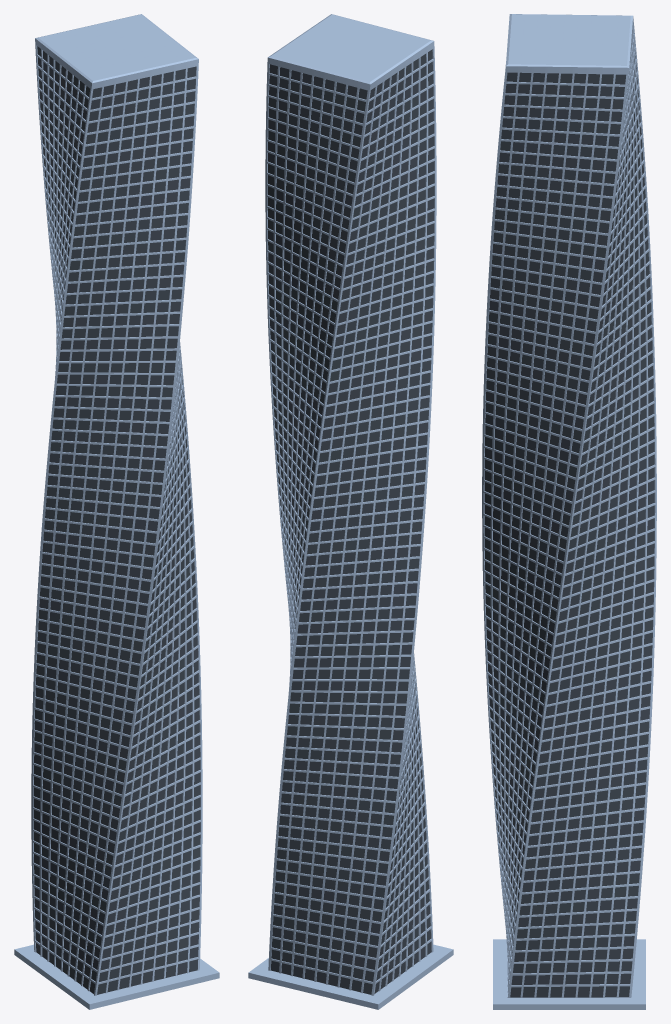
The model's file is spiral.glb.
The picture shows the model from 3 angles, left to right: view 1: azimuth 30°, elevation 25°; view 2: azimuth 150°, elevation 25°; view 3: azimuth 270°, elevation 25°; orthographic projection. The views are drawn at different scales.
Parts seen in each view (by area): view 1: Skyscraper3_Glass_0, Skyscraper3_Wall_0, Skyscraper3_Wall_0.001; view 2: Skyscraper3_Glass_0, Skyscraper3_Wall_0, Skyscraper3_Wall_0.001; view 3: Skyscraper3_Glass_0, Skyscraper3_Wall_0, Skyscraper3_Wall_0.001.
Boxes of the visible parts, left/top/right/bottom form: Skyscraper3_Glass_0: left=33, top=46, right=200, bottom=994; Skyscraper3_Wall_0: left=14, top=14, right=219, bottom=1009; Skyscraper3_Wall_0.001: left=33, top=14, right=200, bottom=995; Skyscraper3_Glass_0: left=267, top=49, right=434, bottom=994; Skyscraper3_Wall_0: left=248, top=14, right=453, bottom=1009; Skyscraper3_Wall_0.001: left=267, top=14, right=436, bottom=993; Skyscraper3_Glass_0: left=484, top=53, right=654, bottom=997; Skyscraper3_Wall_0: left=482, top=14, right=656, bottom=1009; Skyscraper3_Wall_0.001: left=484, top=16, right=656, bottom=997.
Bounding box in the file's own units: 26.02 × 154 × 26.02.
